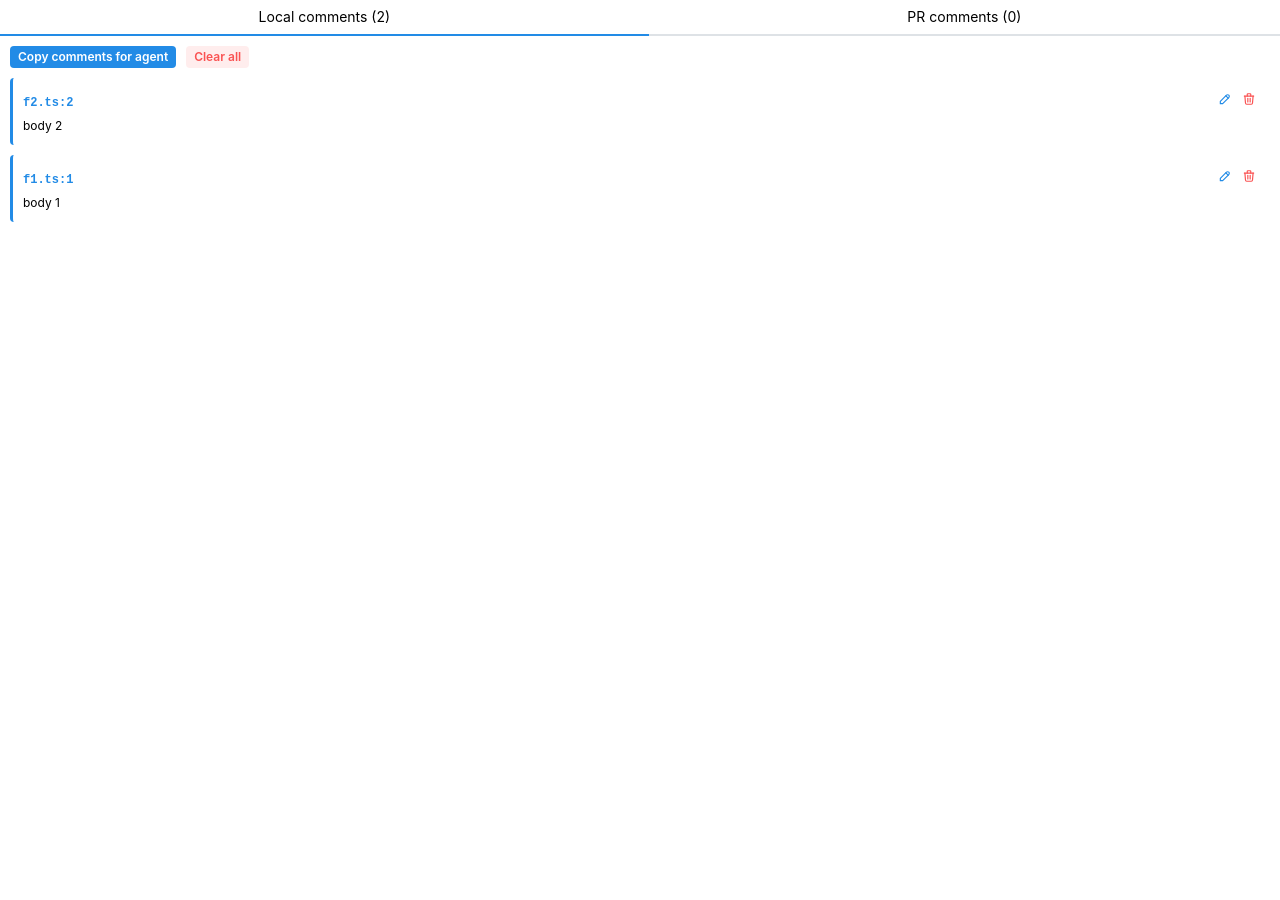
Test: ReviewSidebar › send opens the modal with the prompt and a copy button
Click the button "Copy comments for agent" at coordinates (93, 57), box [10, 46, 176, 68]
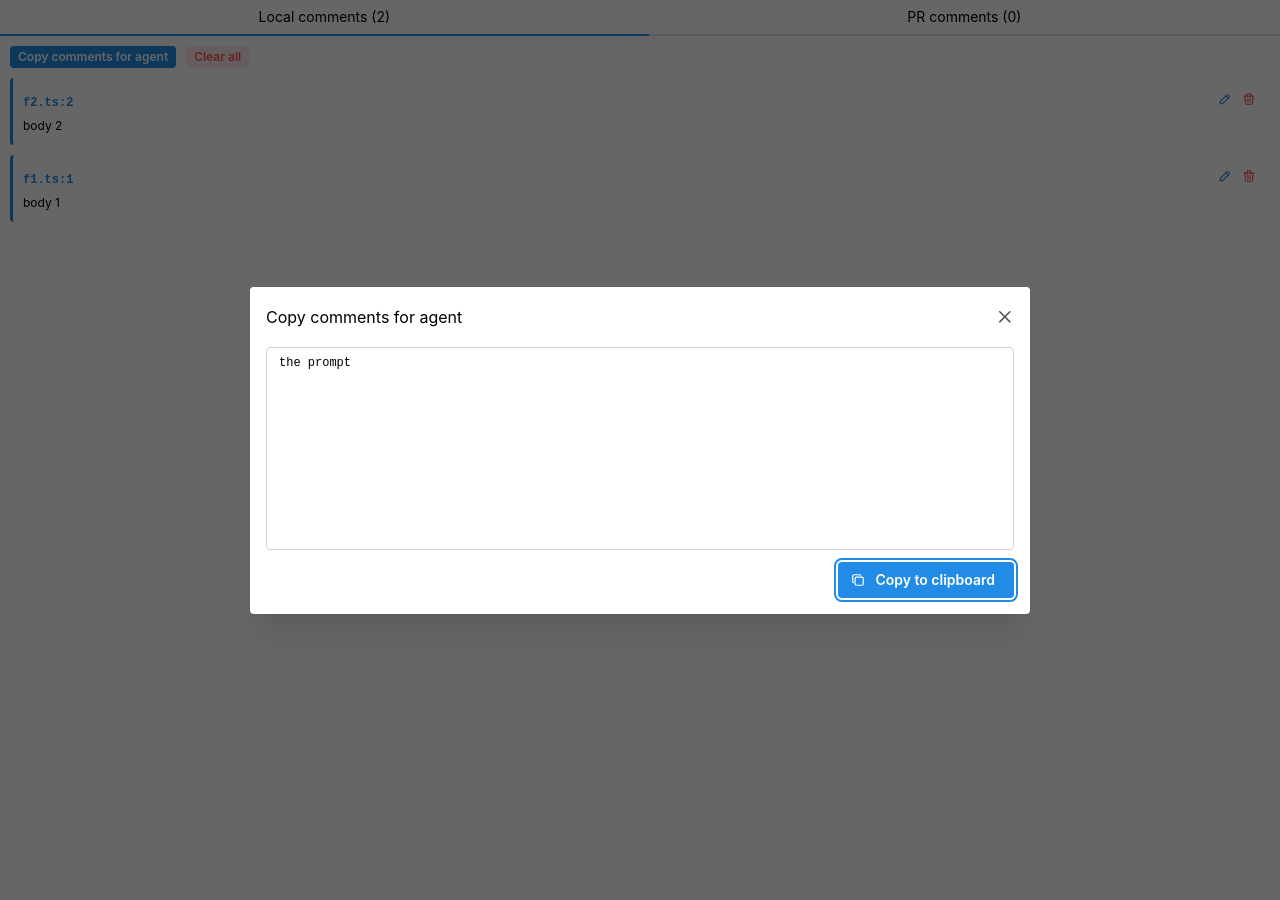
Result: the text box holds "the prompt" at [266, 346, 1014, 550]
Result: the button "Copy to clipboard" is shown at [838, 562, 1014, 598]
